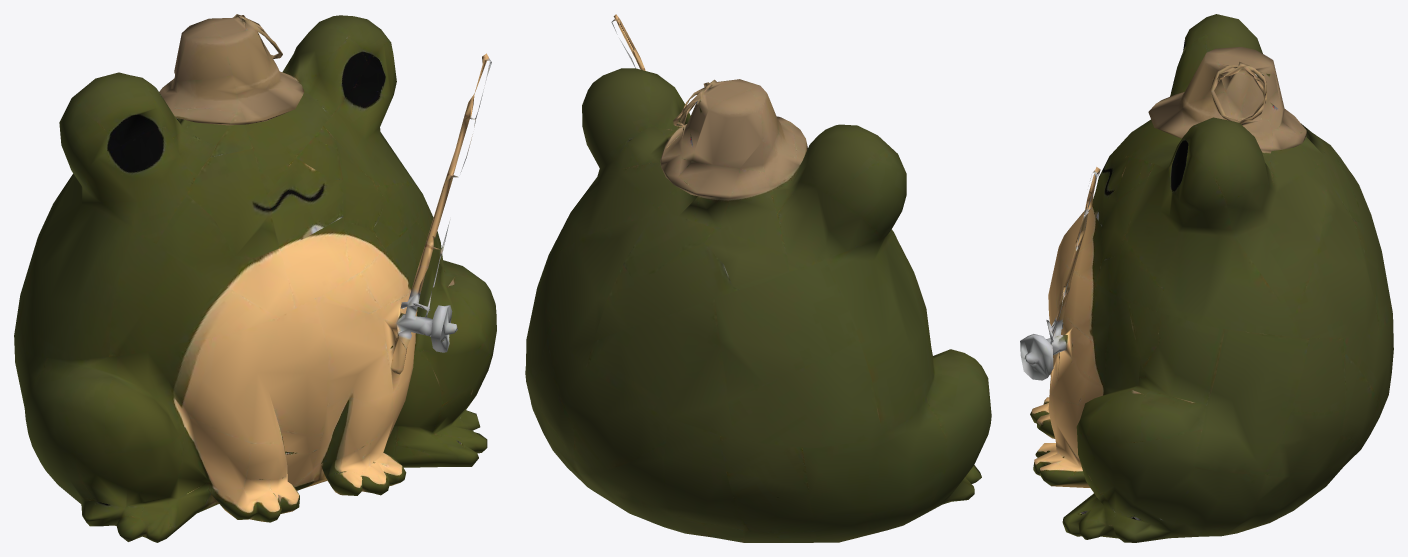
The model's file is pecheur.glb.
3 renders of one model, left to right at view 1: azimuth 30°, elevation 25°; view 2: azimuth 150°, elevation 25°; view 3: azimuth 270°, elevation 25°, orthographic. The views are drawn at different scales.
Parts seen in each view (by area): view 1: mesh_node; view 2: mesh_node; view 3: mesh_node.
Boxes of the visible parts, box(x1,y1,x2,y2) form: mesh_node: box(14, 14, 496, 542); mesh_node: box(525, 14, 991, 542); mesh_node: box(1020, 14, 1393, 542).
Bounding box in the file's own units: 1.9 × 1.76 × 1.43.
1 material, 1 textured.
